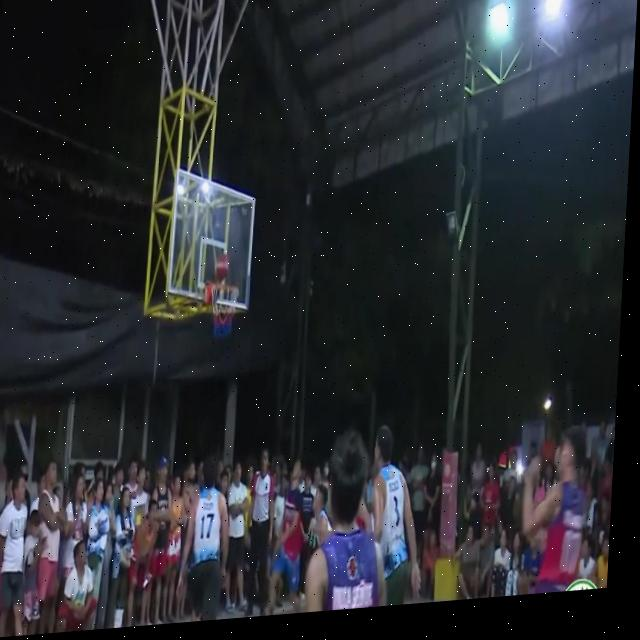basketball: (212, 249, 233, 289)
hoop: (206, 273, 241, 338)
